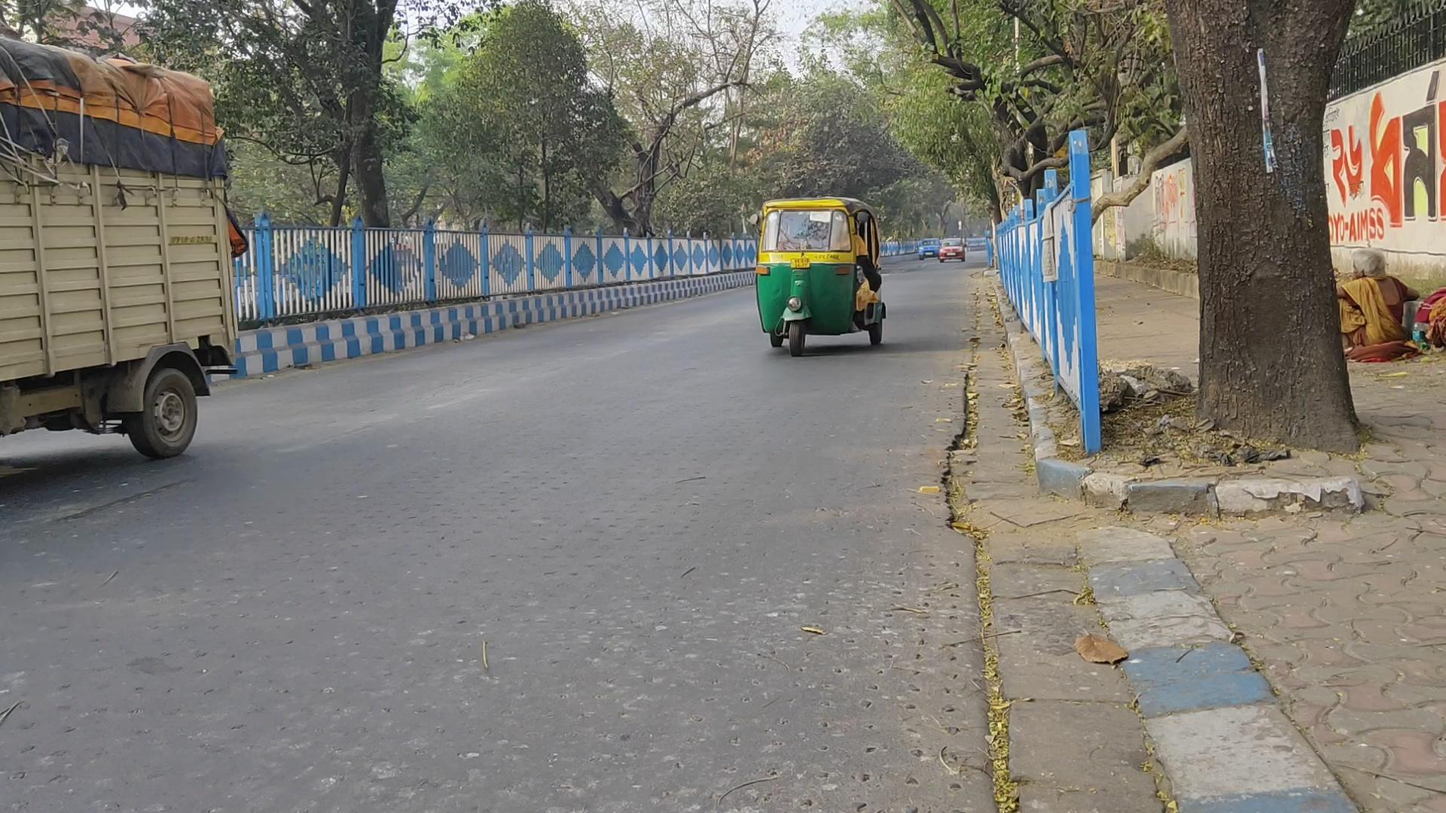Auto: (755, 194, 886, 358)
car: (939, 238, 965, 263), (918, 239, 941, 261)
van: (2, 40, 250, 462)
